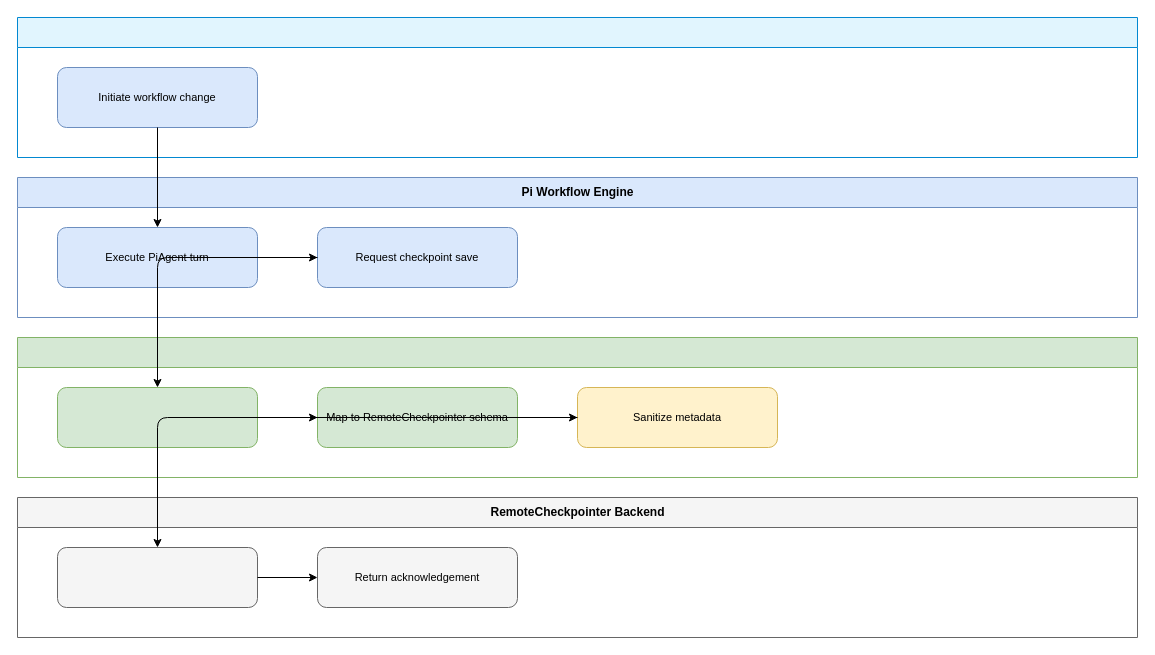
Some shapes in this 1155 by 655 pixel diagram are drawn without their labels. The shapes that lost their labels are listed below. From the top down, each one's box as (x1, y1, x2, y2) in pixels, then its label:
(16, 16, 1138, 158): Developer
(56, 386, 258, 448): Serialize Pi state
(16, 336, 1138, 478): Checkpointer Adapter
(56, 546, 258, 608): Persist checkpoint to KB
